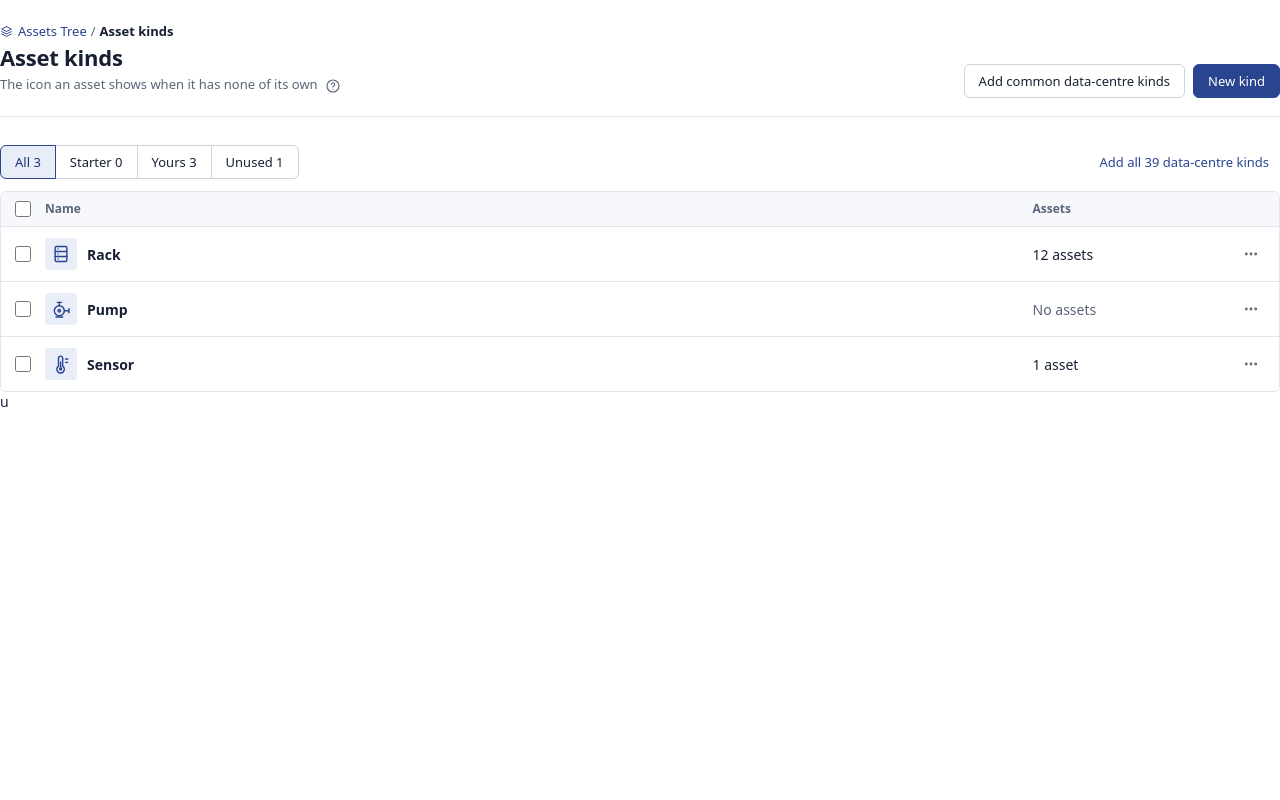
Test: the data-centre starter pack › is off while a delete confirmation is open, like New kind (two dialogs would share Escape and the focus trap)
The image size is (1280, 800).
Expected: the text "Pump" is shown, [87,300,128,319]
Click the button named "Actions for Pump": (1251,310) [1237,296,1265,324]
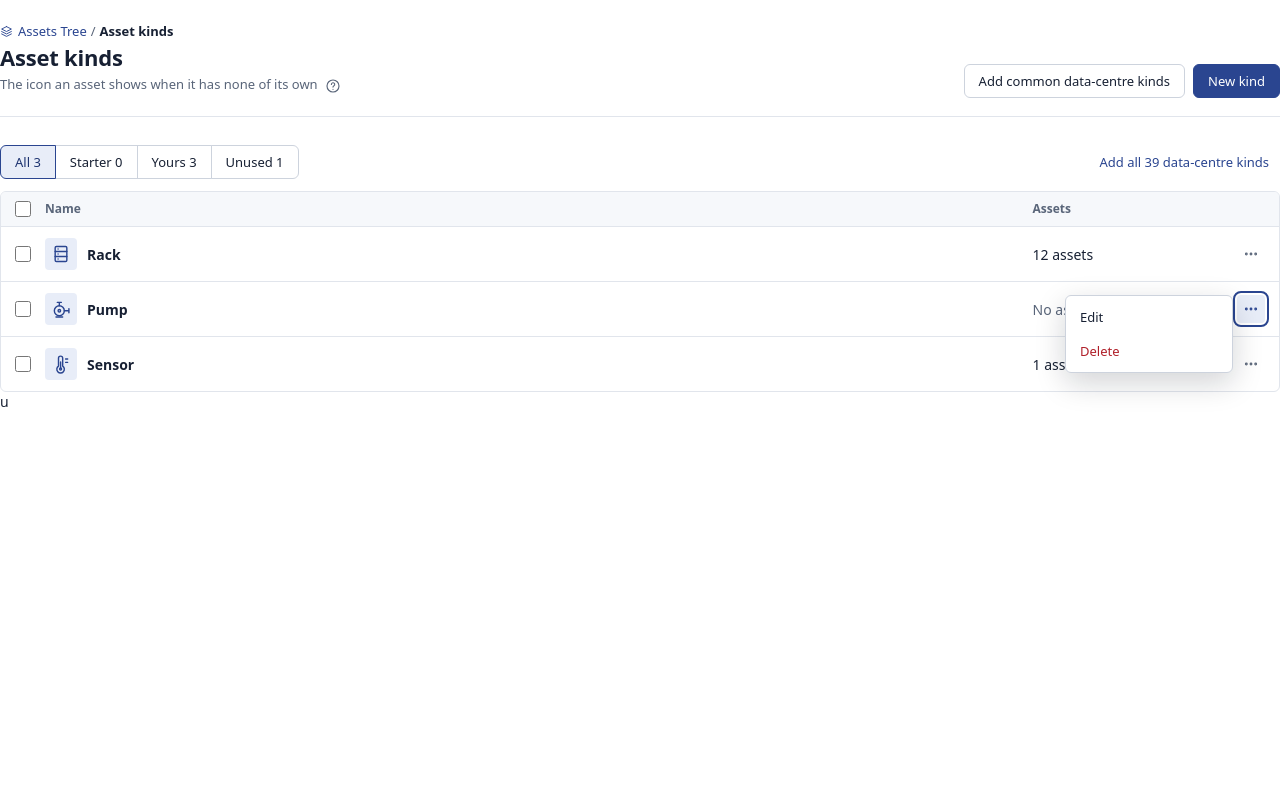
Click the menu item "Delete": (1149,352) [1070,334,1228,368]
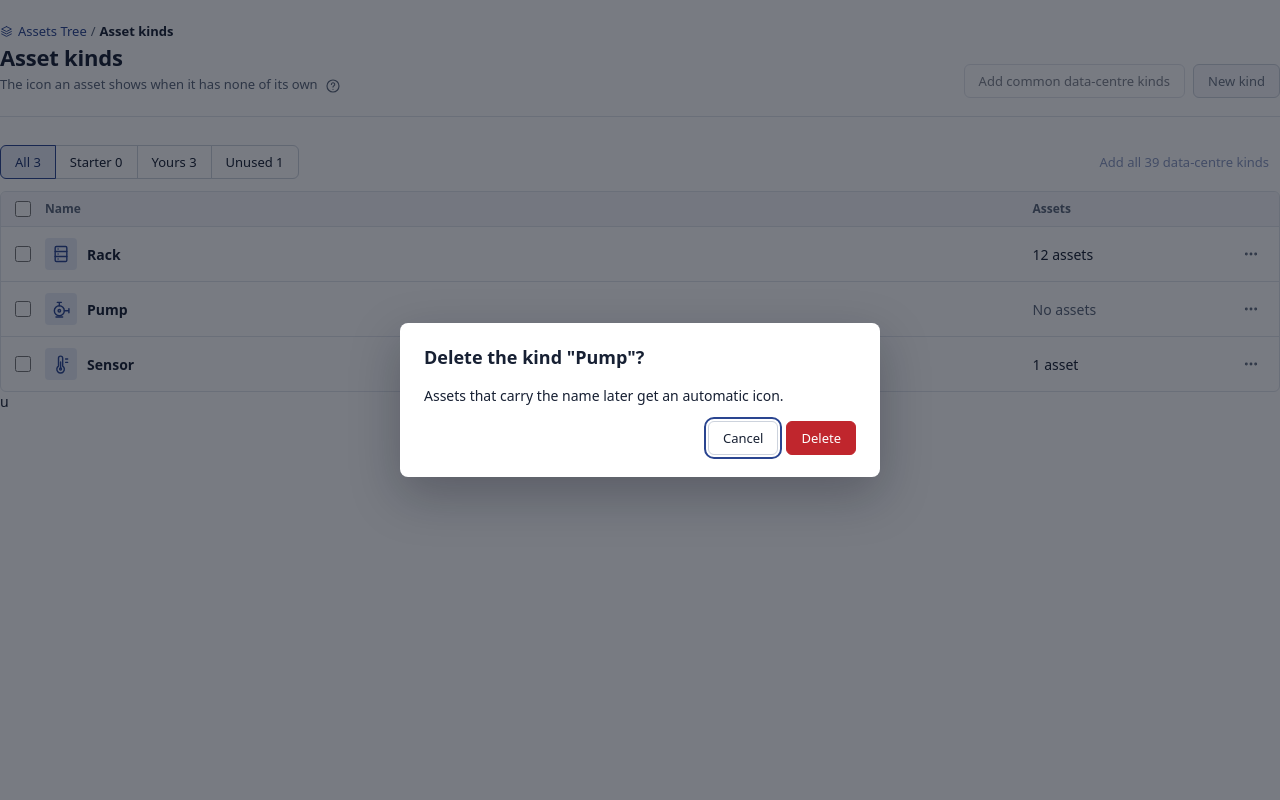
Expected: the button "Add common data-centre kinds" is disabled, [964,64,1185,98]
